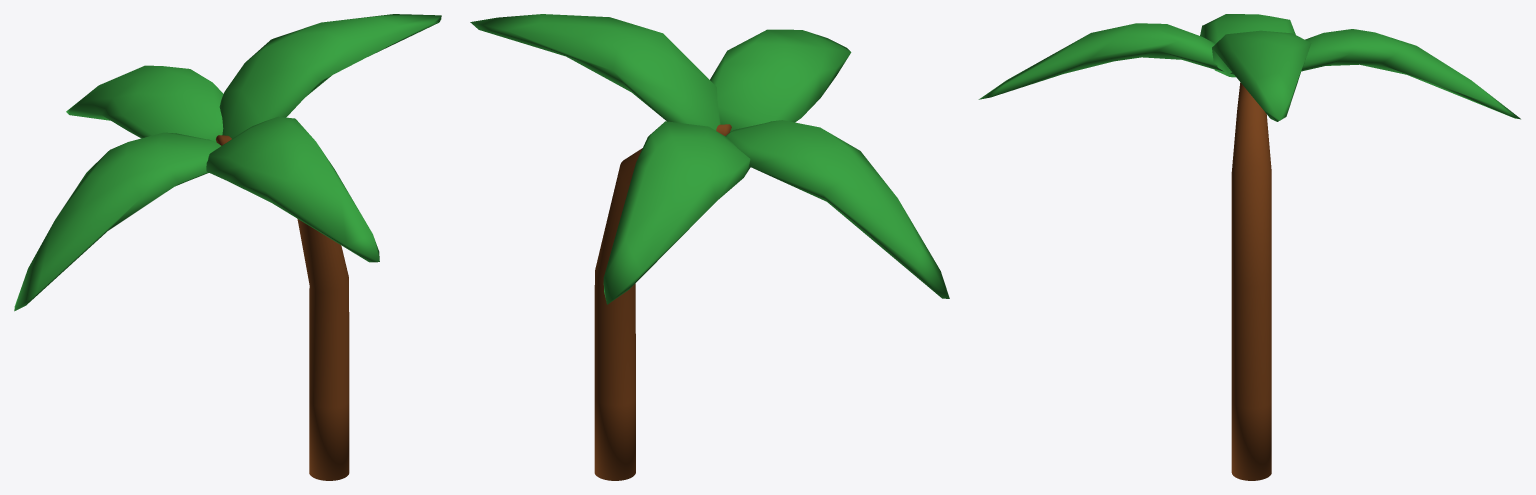
The model's file is tree_mesh.glb.
3 views of the same model, side by side, from view 1: azimuth 30°, elevation 25°; view 2: azimuth 150°, elevation 25°; view 3: azimuth 270°, elevation 25° (orthographic). The views are drawn at different scales.
Visible parts, largest first — view 1: Tree_Mesh; view 2: Tree_Mesh; view 3: Tree_Mesh.
Boxes of the visible parts, x1,y1,x2,y2 form: Tree_Mesh: [14, 14, 441, 480]; Tree_Mesh: [470, 14, 949, 480]; Tree_Mesh: [978, 14, 1520, 480].
Size of the model in its own units: 3.54 by 3.3 by 3.75.
